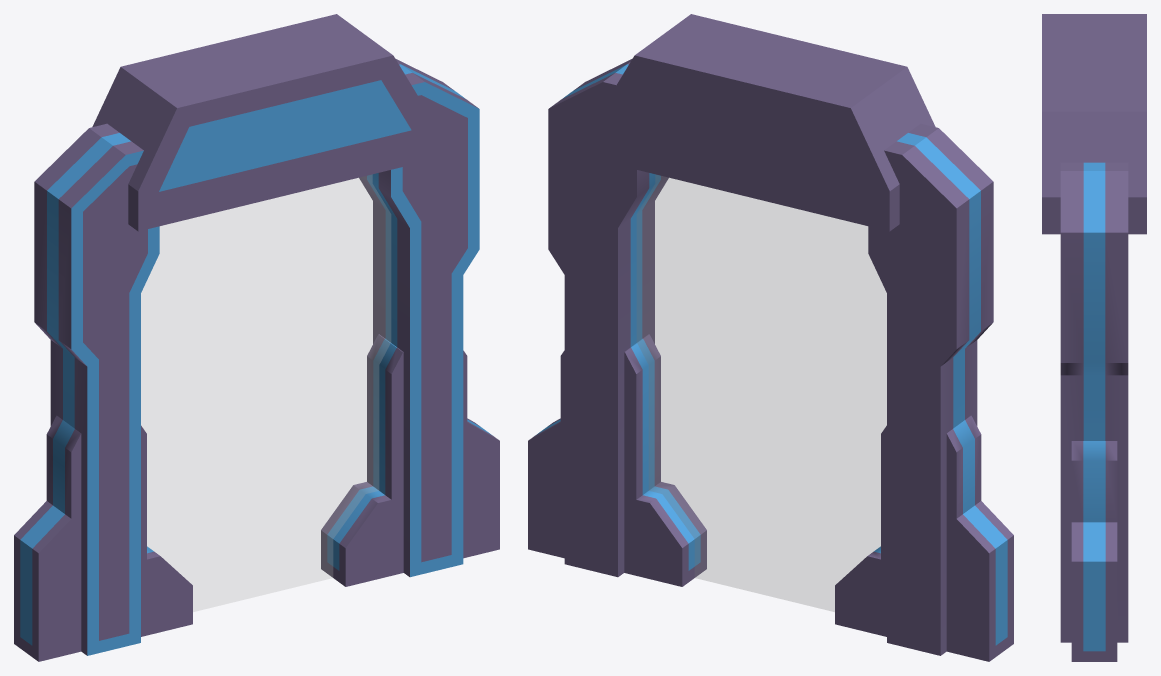
File: Portal.fbx
3 views of the same model, side by side, from view 1: azimuth 30°, elevation 25°; view 2: azimuth 150°, elevation 25°; view 3: azimuth 270°, elevation 25° (orthographic). The views are drawn at different scales.
Parts seen in each view (by area): view 1: Portal; view 2: Portal; view 3: Portal.
Boxes of the visible parts, x1=… form: Portal: x1=14, y1=14, x2=499, y2=661; Portal: x1=528, y1=14, x2=1013, y2=661; Portal: x1=1042, y1=14, x2=1146, y2=661.
Bounding box in the file's own units: 591 × 656 × 126.
